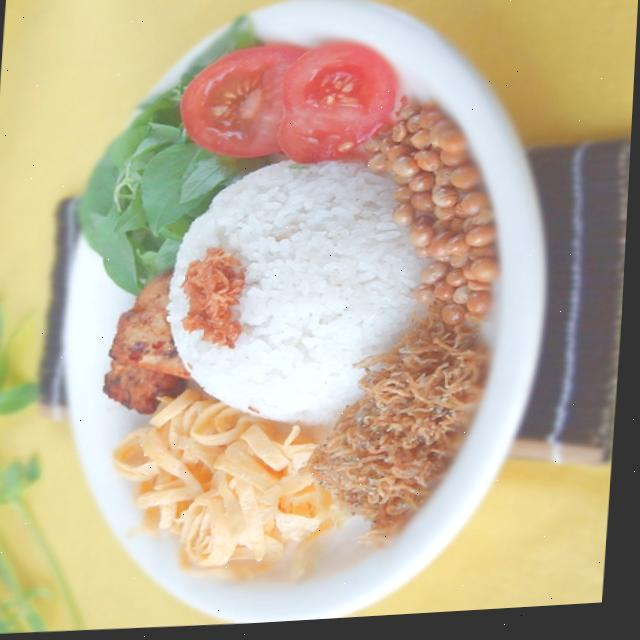米饭主食: (33, 0, 558, 637)
